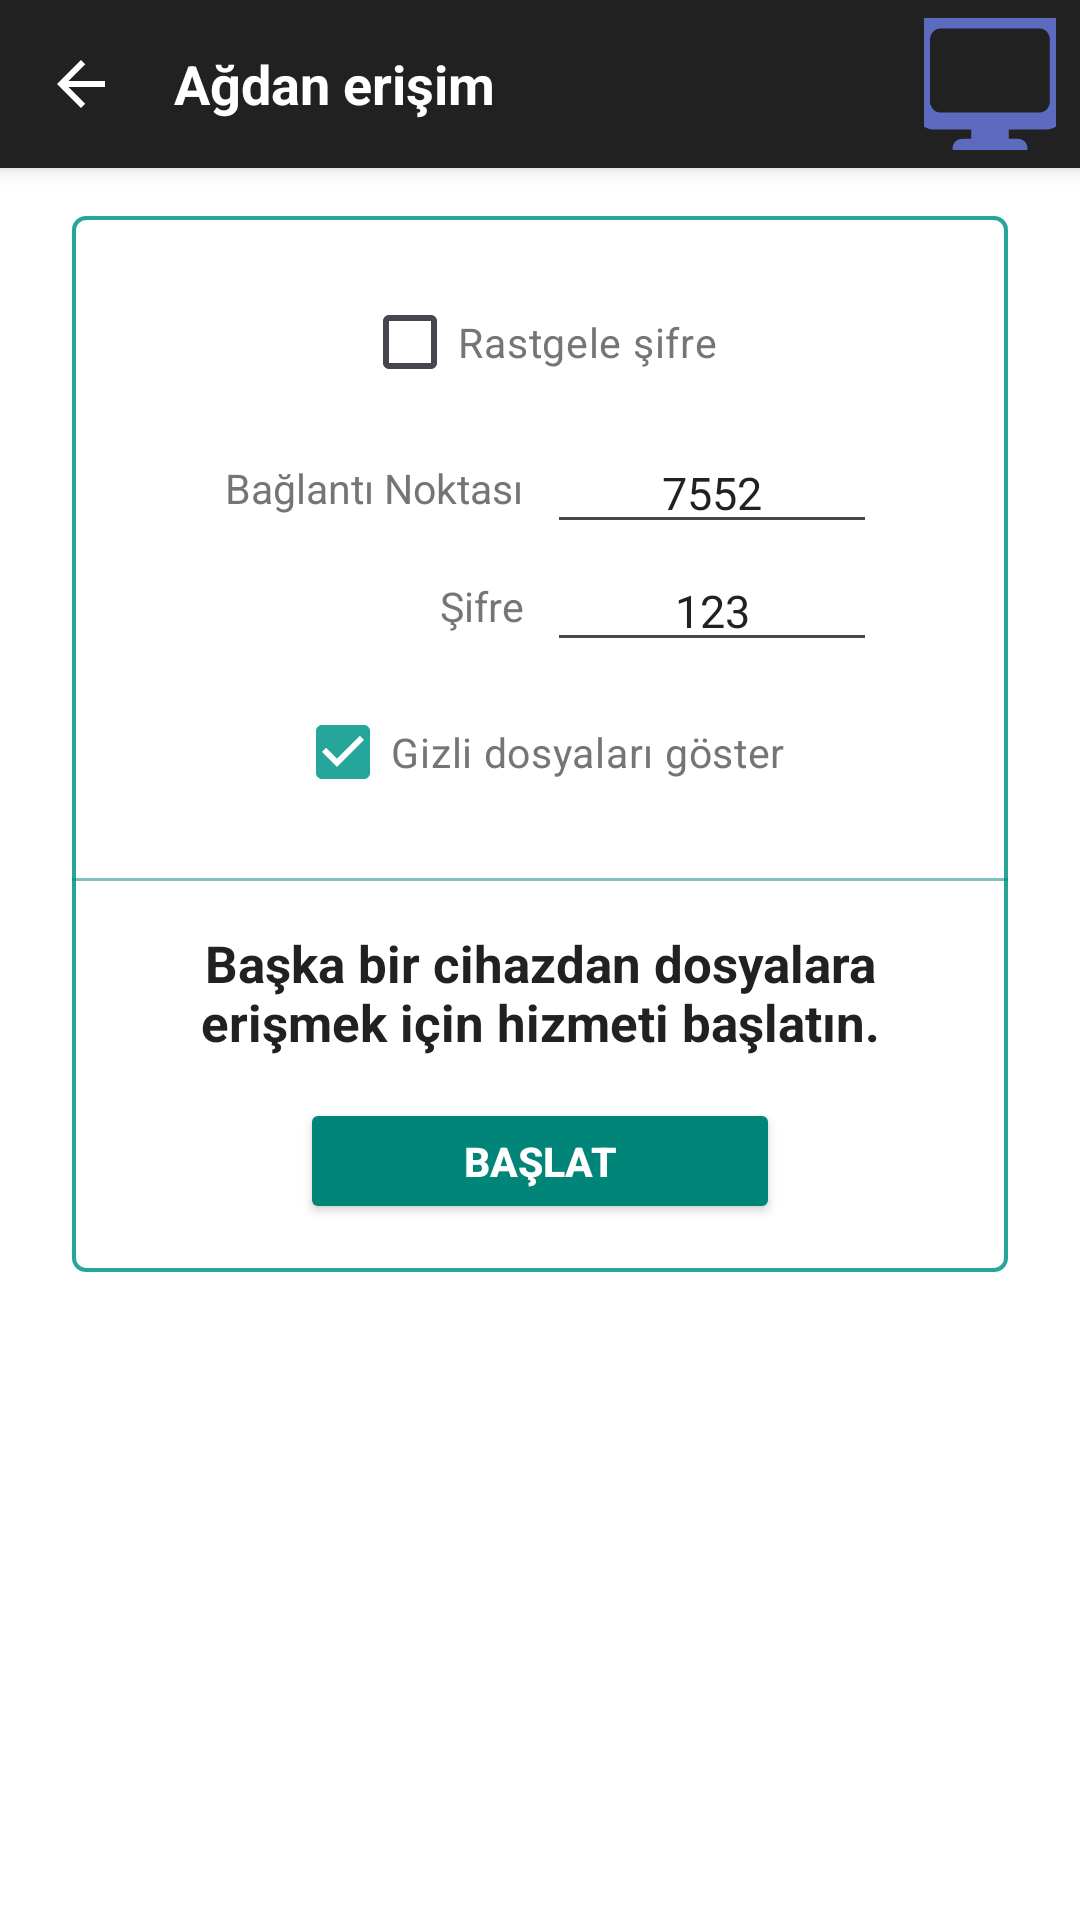

Where icons sit on this 1080px x 1920px app screen, as (x1, y1, x2, y2):
arrow back: (57, 60, 105, 108)
